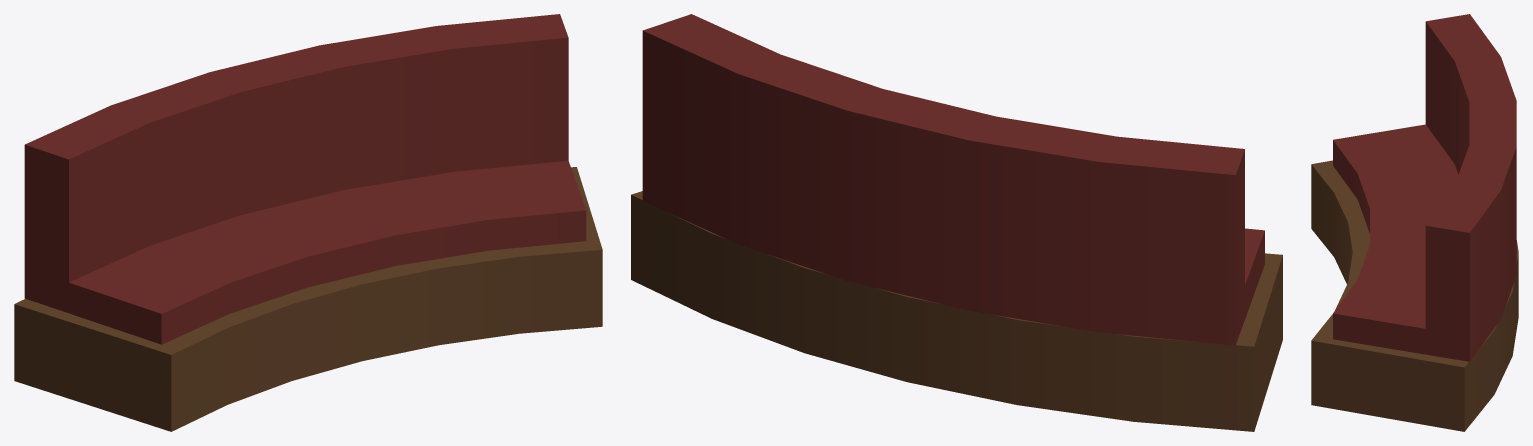
File: curve_couch.glb
The picture shows the model from 3 angles, left to right: view 1: azimuth 30°, elevation 25°; view 2: azimuth 150°, elevation 25°; view 3: azimuth 270°, elevation 25°; orthographic projection. The views are drawn at different scales.
Parts seen in each view (by area): view 1: sw5e_int_curve_couch; view 2: sw5e_int_curve_couch; view 3: sw5e_int_curve_couch.
Boxes of the visible parts, x1,y1,x2,y2 form: sw5e_int_curve_couch: (14,14,602,431); sw5e_int_curve_couch: (631,14,1282,431); sw5e_int_curve_couch: (1311,14,1518,431).
Bounding box in the file's own units: 2.3 × 0.9 × 0.8751.
